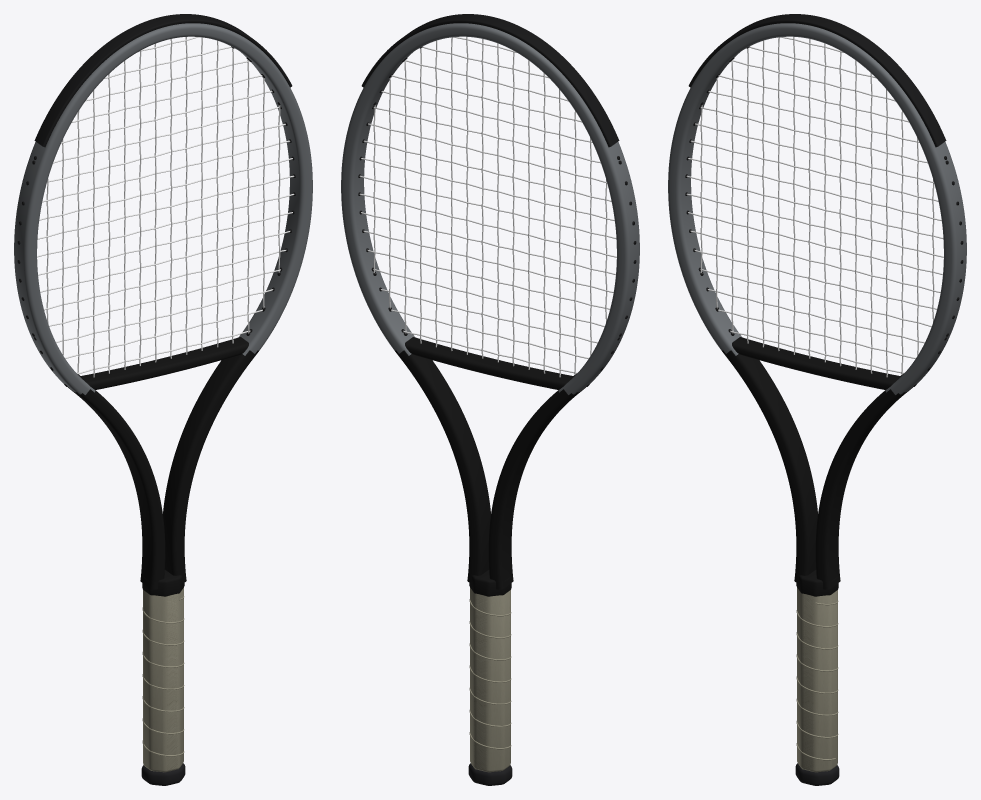
The model's file is prince-phantom-100x-305-2024.glb.
The picture shows the model from 3 angles, left to right: view 1: azimuth 30°, elevation 25°; view 2: azimuth 150°, elevation 25°; view 3: azimuth 330°, elevation 25°; orthographic projection.
Parts seen in each view (by area): view 1: Frame, Strings, Handle, Bumper, Yoke, GripSeam, ButtCap, Collar; view 2: Frame, Strings, Handle, Bumper, Yoke, GripSeam, ButtCap, Collar; view 3: Frame, Strings, Handle, Bumper, Yoke, GripSeam, ButtCap, Collar.
Boxes of the visible parts, x1=… form: Frame: x1=14, y1=23, x2=312, y2=589; Strings: x1=37, y1=37, x2=294, y2=377; Handle: x1=143, y1=587, x2=183, y2=772; Bumper: x1=34, y1=14, x2=292, y2=147; Yoke: x1=80, y1=337, x2=248, y2=389; GripSeam: x1=142, y1=596, x2=184, y2=756; ButtCap: x1=141, y1=763, x2=185, y2=785; Collar: x1=142, y1=570, x2=184, y2=596; Frame: x1=341, y1=23, x2=639, y2=589; Strings: x1=359, y1=37, x2=616, y2=377; Handle: x1=470, y1=587, x2=510, y2=772; Bumper: x1=361, y1=14, x2=619, y2=147; Yoke: x1=405, y1=337, x2=573, y2=389; GripSeam: x1=469, y1=599, x2=511, y2=749; ButtCap: x1=468, y1=763, x2=512, y2=785; Collar: x1=469, y1=570, x2=511, y2=596; Frame: x1=668, y1=23, x2=966, y2=589; Strings: x1=686, y1=37, x2=943, y2=377; Handle: x1=797, y1=587, x2=837, y2=772; Bumper: x1=688, y1=14, x2=946, y2=147; Yoke: x1=732, y1=337, x2=900, y2=389; GripSeam: x1=796, y1=601, x2=838, y2=760; ButtCap: x1=795, y1=763, x2=839, y2=785; Collar: x1=796, y1=570, x2=838, y2=596.
Size of the model in its own units: 0.2757 by 0.6886 by 0.0327.
6 materials, 1 textured.
